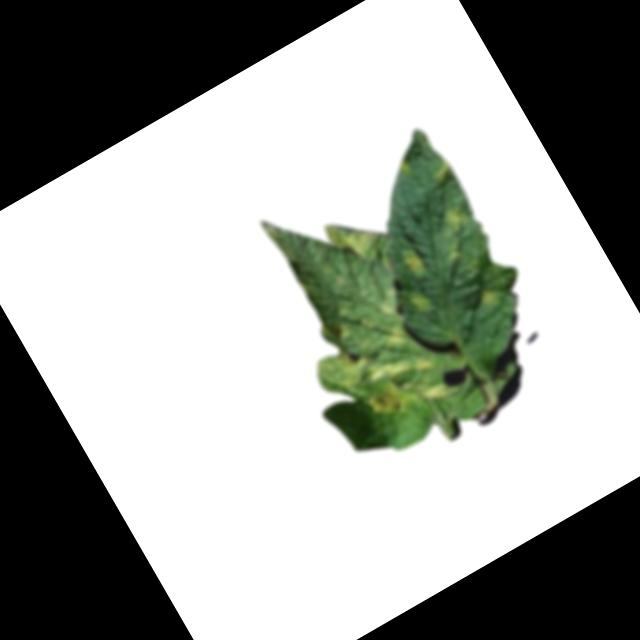Leaf_Mold: (314, 323, 390, 403), (319, 207, 382, 266), (363, 373, 417, 426), (396, 240, 434, 282), (406, 285, 439, 320), (440, 204, 471, 236), (421, 376, 453, 406), (472, 279, 502, 309), (385, 322, 412, 349)
